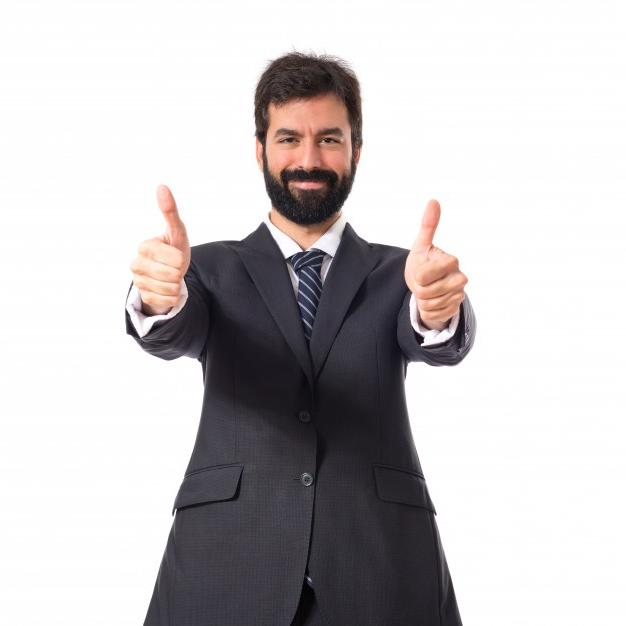thumbsup: (412, 199, 469, 322), (130, 185, 184, 306)
